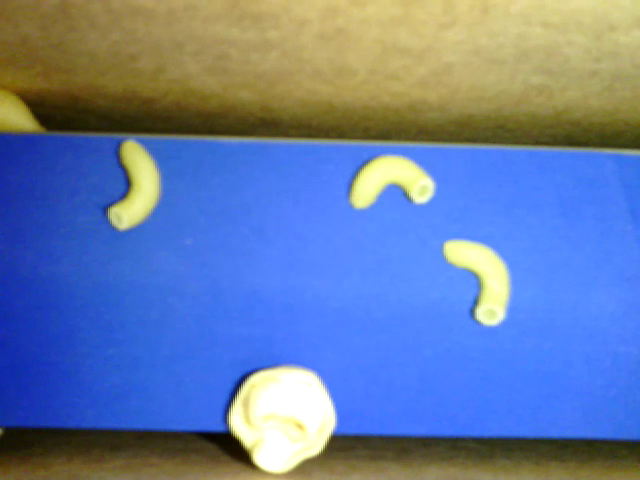elbow: (443, 240, 509, 325), (349, 150, 434, 215), (107, 139, 160, 232)
shell: (1, 85, 53, 135)
tortellini: (225, 365, 340, 475)
